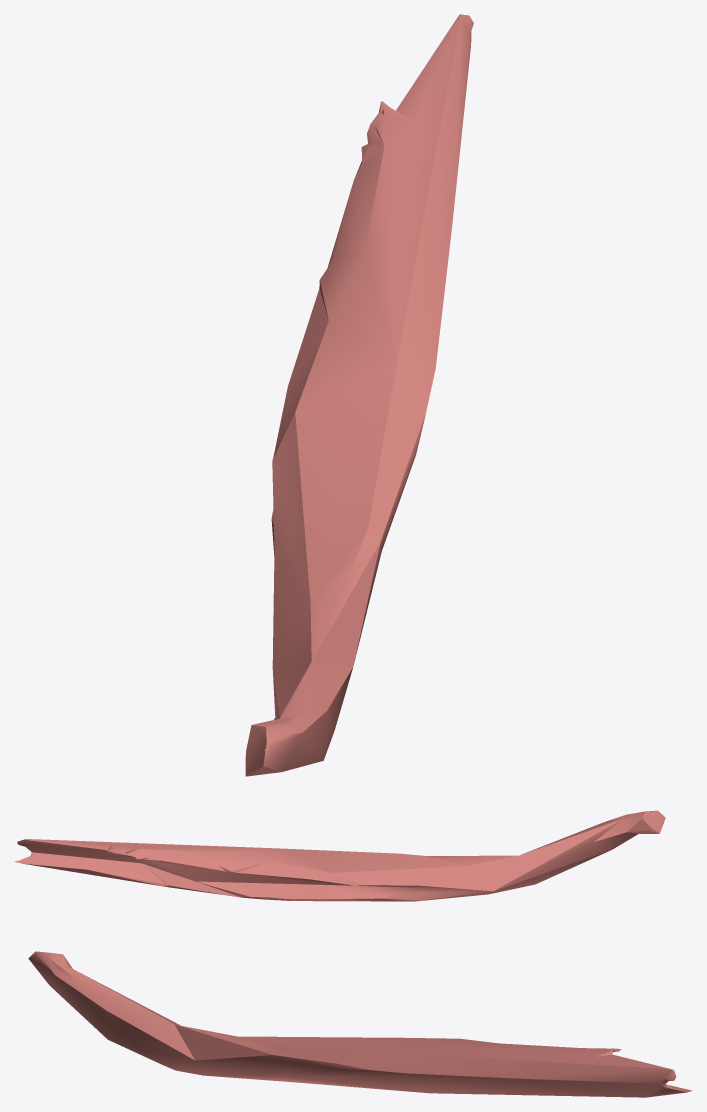
File: fma37485_fj1387.glb
3 renders of one model, top to bottom at view 1: azimuth 30°, elevation 25°; view 2: azimuth 150°, elevation 25°; view 3: azimuth 270°, elevation 25°, orthographic. The views are drawn at different scales.
Parts seen in each view (by area): view 1: FMA37485_FJ1387; view 2: FMA37485_FJ1387; view 3: FMA37485_FJ1387.
Part boxes in pixels (x1,y1,x2,y2): FMA37485_FJ1387: (245, 14, 473, 776); FMA37485_FJ1387: (14, 810, 665, 901); FMA37485_FJ1387: (28, 951, 692, 1097).
Bounding box in the file's own units: 0.0438 × 0.0142 × 0.0545.
